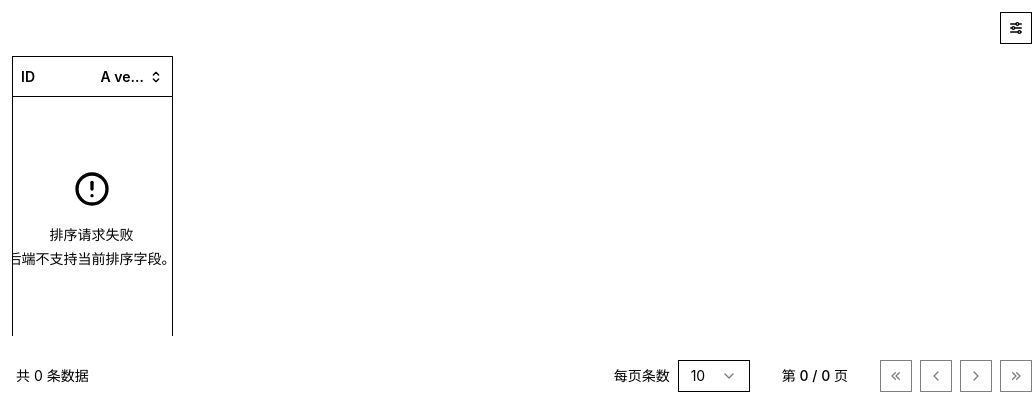
DataTable body › keeps sortable headers and exposes sorting recovery while an error status is visible
Expected: the button "清除排序并重试" is not shown
Click the button "A very long sortable customer name header" at point(132, 76), box 100,60 -> 164,92
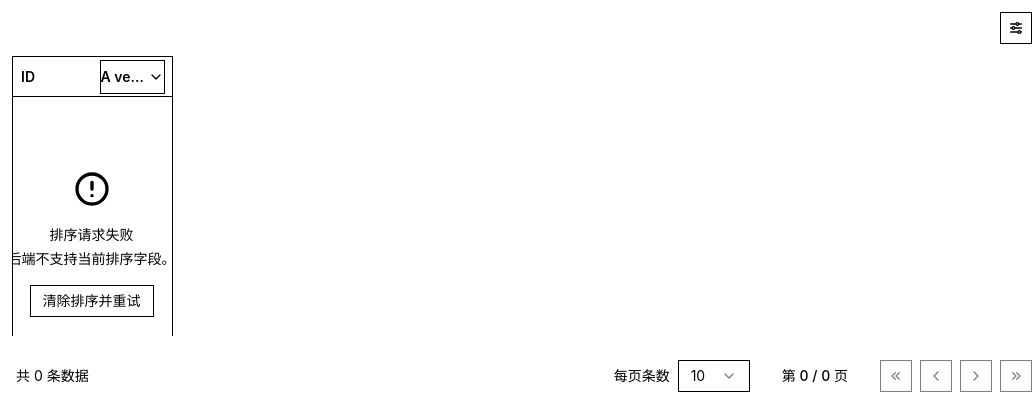
Expected: the heading "排序请求失败" is shown, 50,225 -> 134,245
Click the button "清除排序并重试" at point(92, 301), box 30,285 -> 154,317
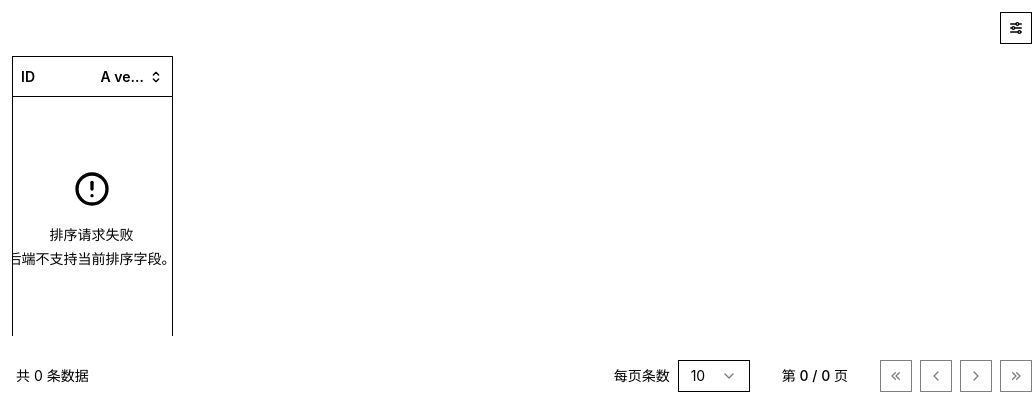
Result: the button "清除排序并重试" is gone
